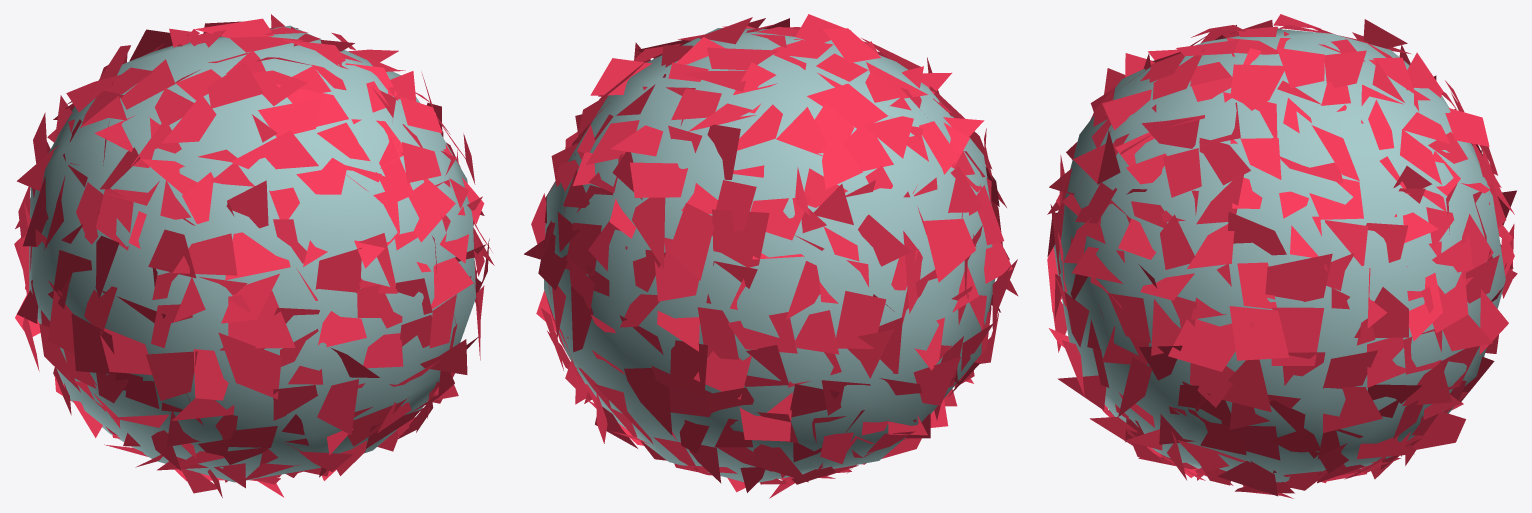
File: Bush1.fbx
The picture shows the model from 3 angles, left to right: view 1: azimuth 30°, elevation 25°; view 2: azimuth 150°, elevation 25°; view 3: azimuth 270°, elevation 25°; orthographic projection.
Visible parts, largest first — view 1: Cube.001, Cube; view 2: Cube.001, Cube; view 3: Cube.001, Cube.
Boxes of the visible parts, bbox=[...] form: Cube.001: bbox=[14, 14, 494, 497]; Cube: bbox=[29, 25, 475, 482]; Cube.001: bbox=[524, 14, 1018, 498]; Cube: bbox=[544, 28, 995, 482]; Cube.001: bbox=[1047, 14, 1517, 498]; Cube: bbox=[1053, 29, 1505, 482].
Size of the model in its own units: 183 by 178 by 174.
